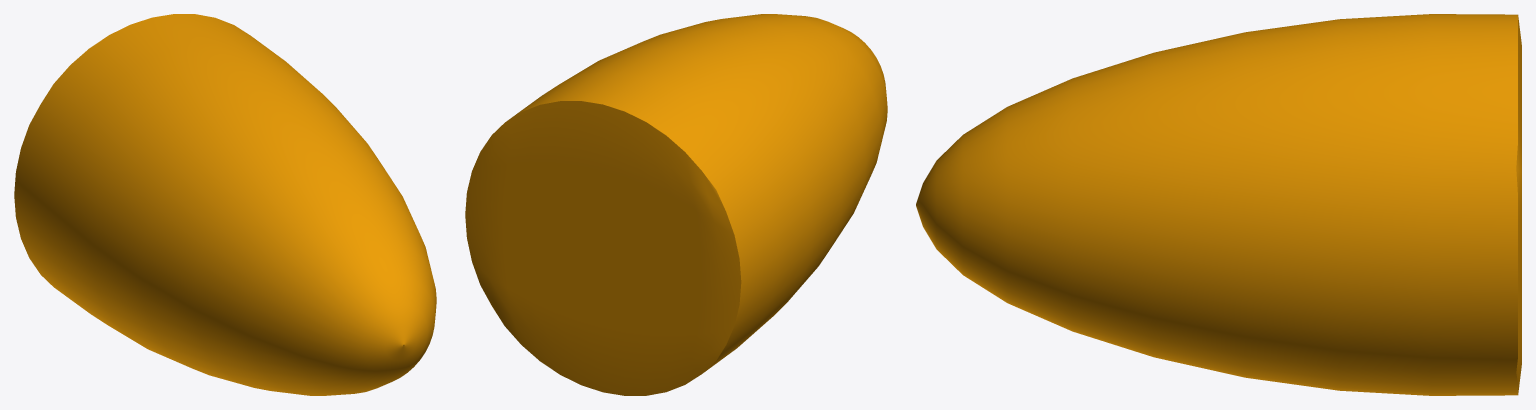
Rendered from Bullet.fbx.
3 renders of one model, left to right at view 1: azimuth 30°, elevation 25°; view 2: azimuth 150°, elevation 25°; view 3: azimuth 270°, elevation 25°, orthographic. The views are drawn at different scales.
Visible parts, largest first — view 1: Bullet; view 2: Bullet; view 3: Bullet.
Part boxes in pixels (bbox=[...]): Bullet: bbox=[14, 14, 436, 395]; Bullet: bbox=[465, 14, 887, 395]; Bullet: bbox=[916, 14, 1521, 395].
Size of the model in its own units: 0.0088 by 0.0088 by 0.0139.
